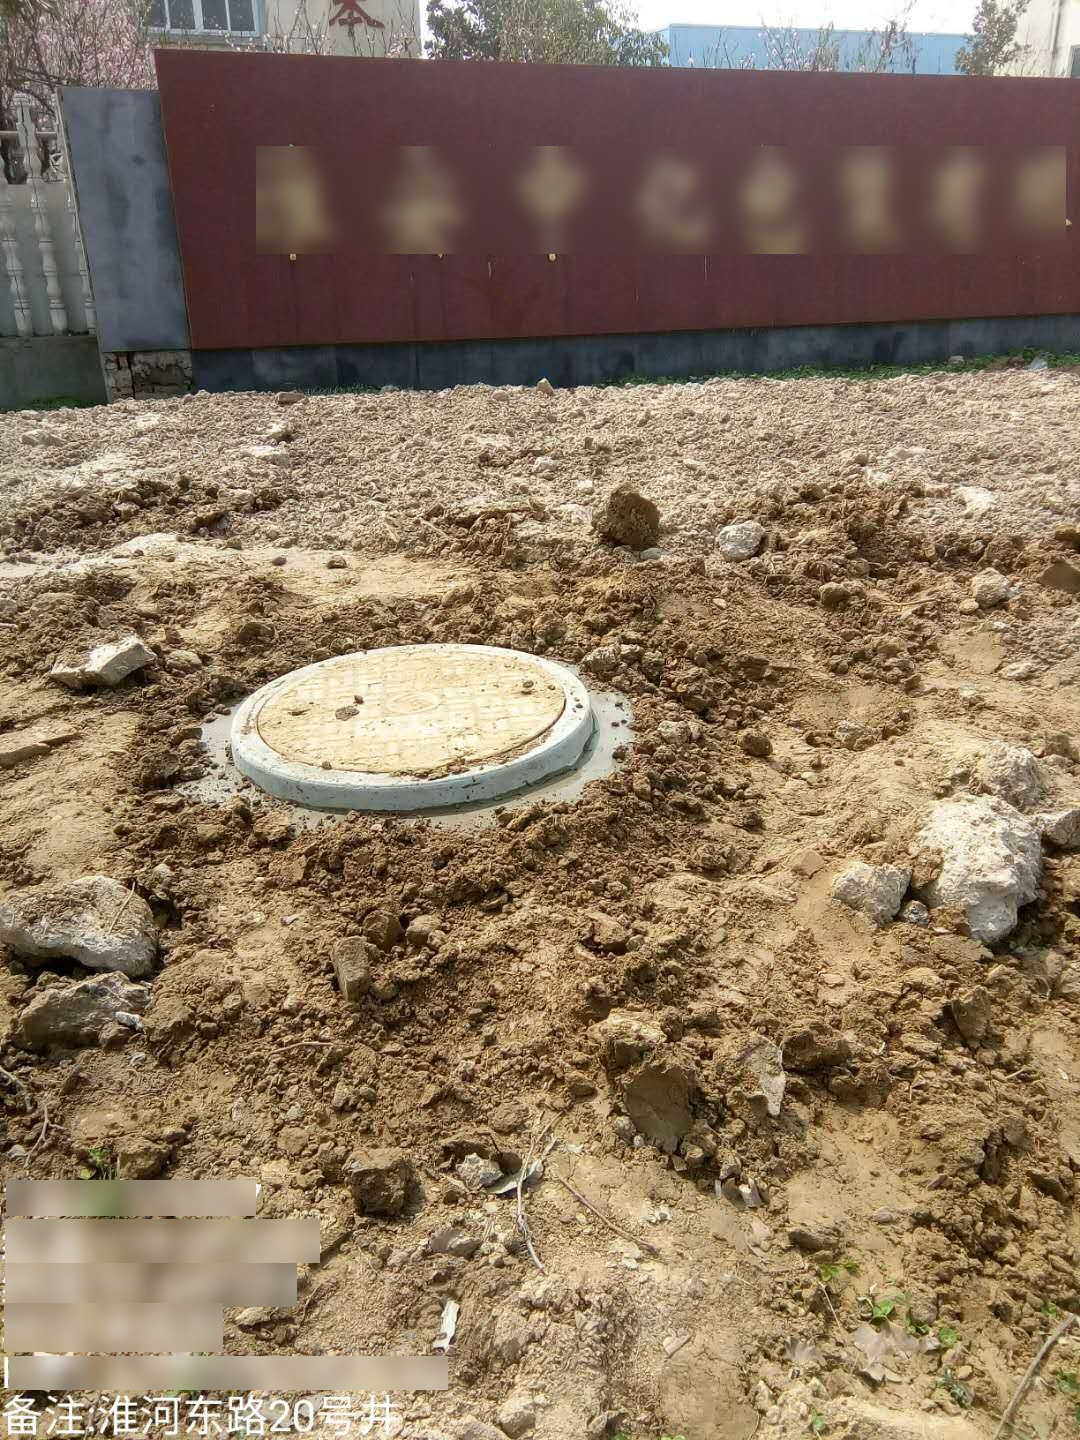well: (216, 642, 594, 803)
